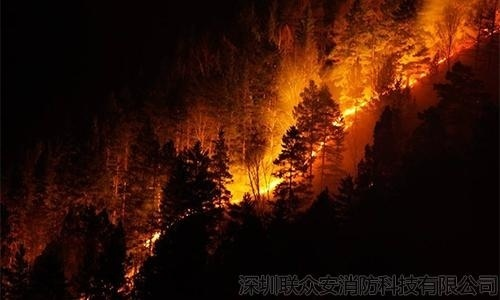fire: (240, 0, 494, 210)
